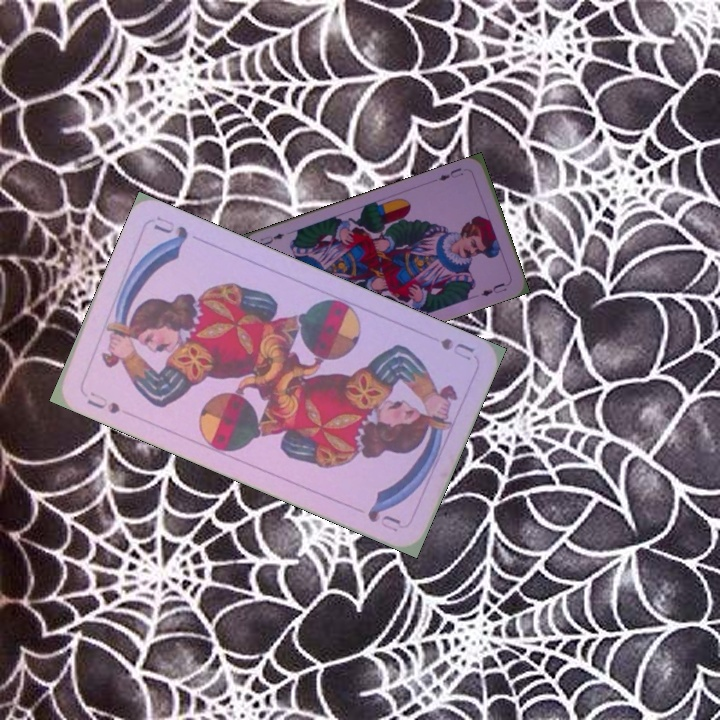EU: (435, 163, 466, 183)
SU: (436, 333, 477, 363), (83, 387, 123, 417)
